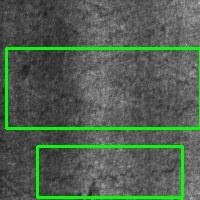crazing: (6, 48, 200, 128), (37, 146, 182, 197)
